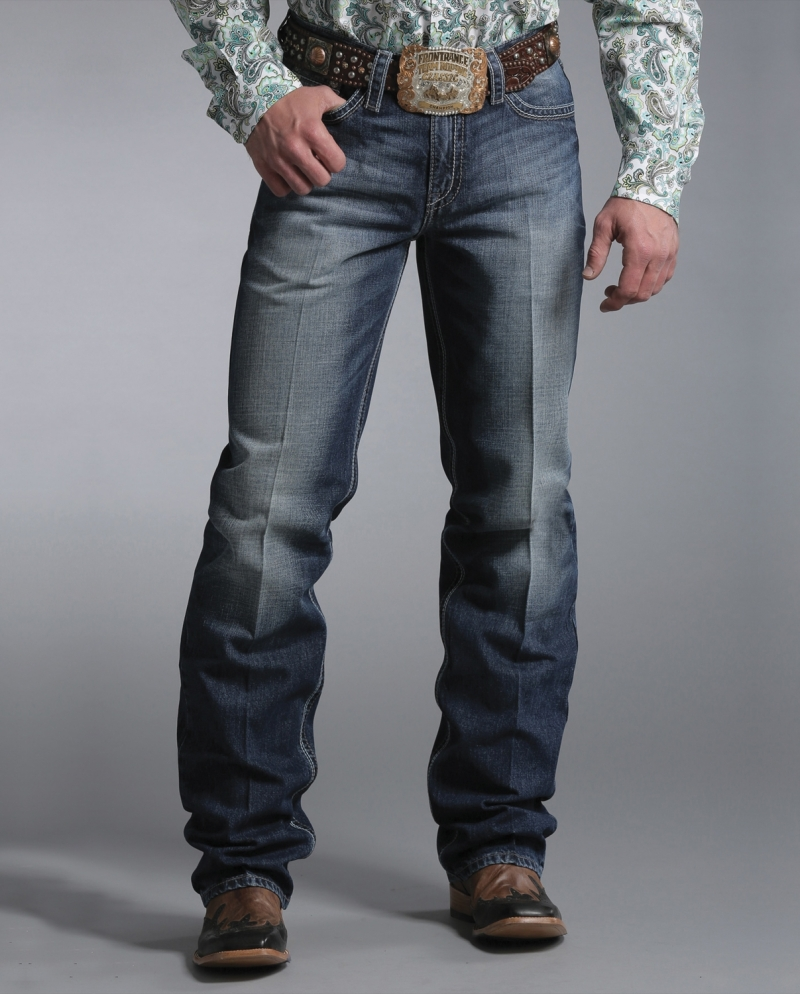Jeans: (173, 29, 589, 887)
